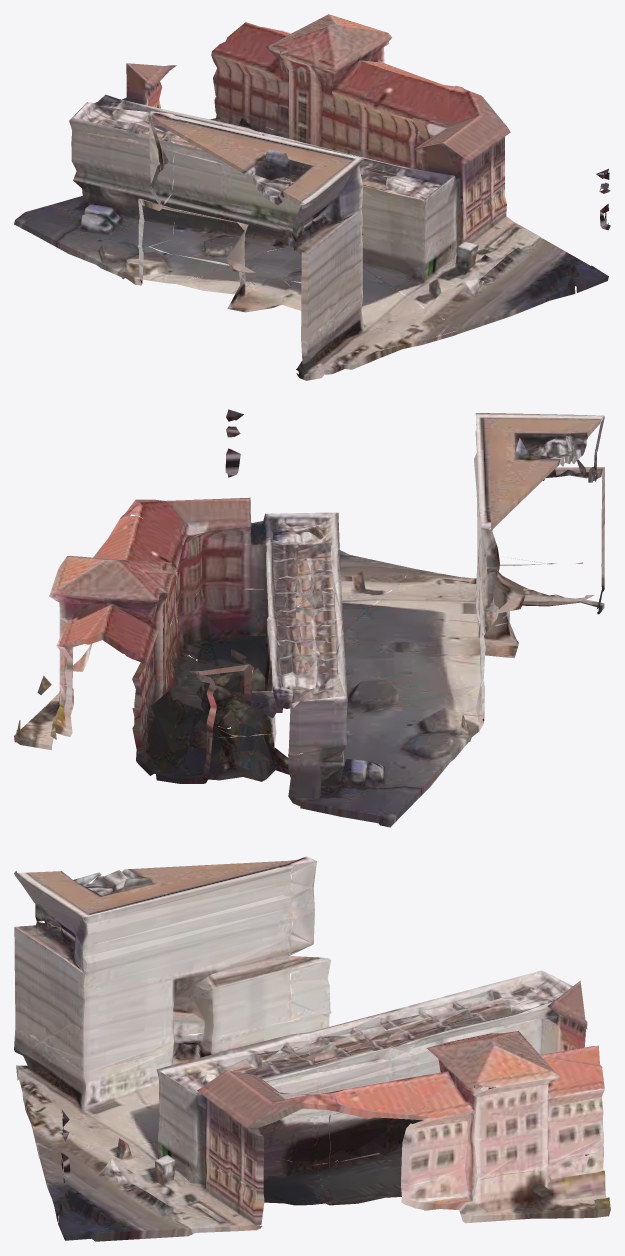
The picture shows the model from 3 angles, top to bottom: view 1: azimuth 30°, elevation 25°; view 2: azimuth 150°, elevation 25°; view 3: azimuth 270°, elevation 25°; orthographic projection. The views are drawn at different scales.
Visible parts, largest first — view 1: Mesh_0; view 2: Mesh_0; view 3: Mesh_0.
Boxes of the visible parts, box(x1,y1,x2,y2) form: Mesh_0: box(14, 14, 610, 380); Mesh_0: box(14, 409, 604, 827); Mesh_0: box(14, 856, 610, 1241).
Size of the model in its own units: 67.12 by 33.48 by 82.81.
1 material, 1 textured.
